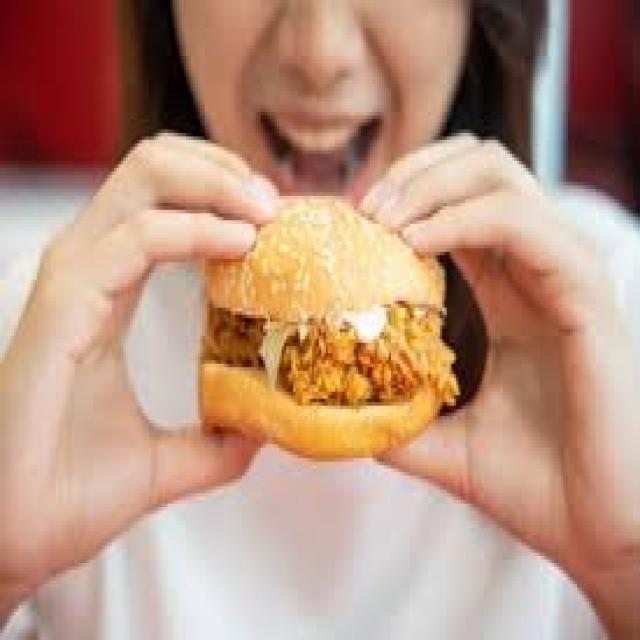햄버거: (195, 196, 477, 462)
